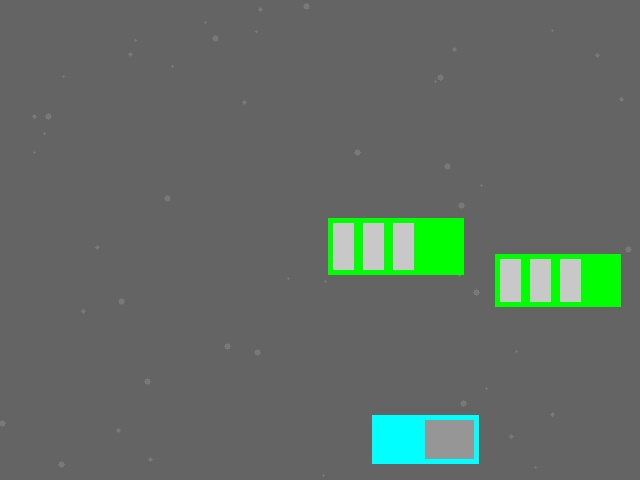bus: (328, 218, 463, 274), (495, 254, 620, 306)
truck: (372, 415, 478, 463)
